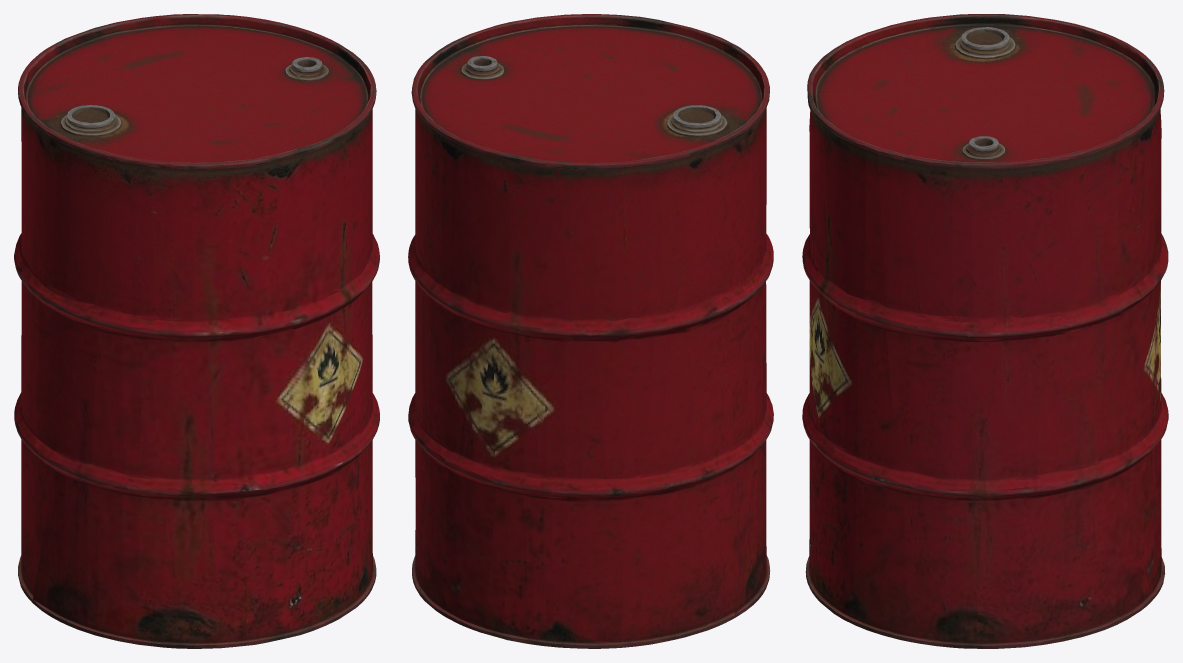
The model's file is fuel_drum.glb.
3 views of the same model, side by side, from view 1: azimuth 30°, elevation 25°; view 2: azimuth 150°, elevation 25°; view 3: azimuth 270°, elevation 25° (orthographic).
Visible parts, largest first — view 1: Mesh_0; view 2: Mesh_0; view 3: Mesh_0.
Boxes of the visible parts, x1=… form: Mesh_0: x1=14, y1=14, x2=379, y2=648; Mesh_0: x1=408, y1=14, x2=773, y2=648; Mesh_0: x1=802, y1=14, x2=1168, y2=648.
Size of the model in its own units: 1.3 by 1.9 by 1.3.
Materials: 1 (1 with a texture image).
